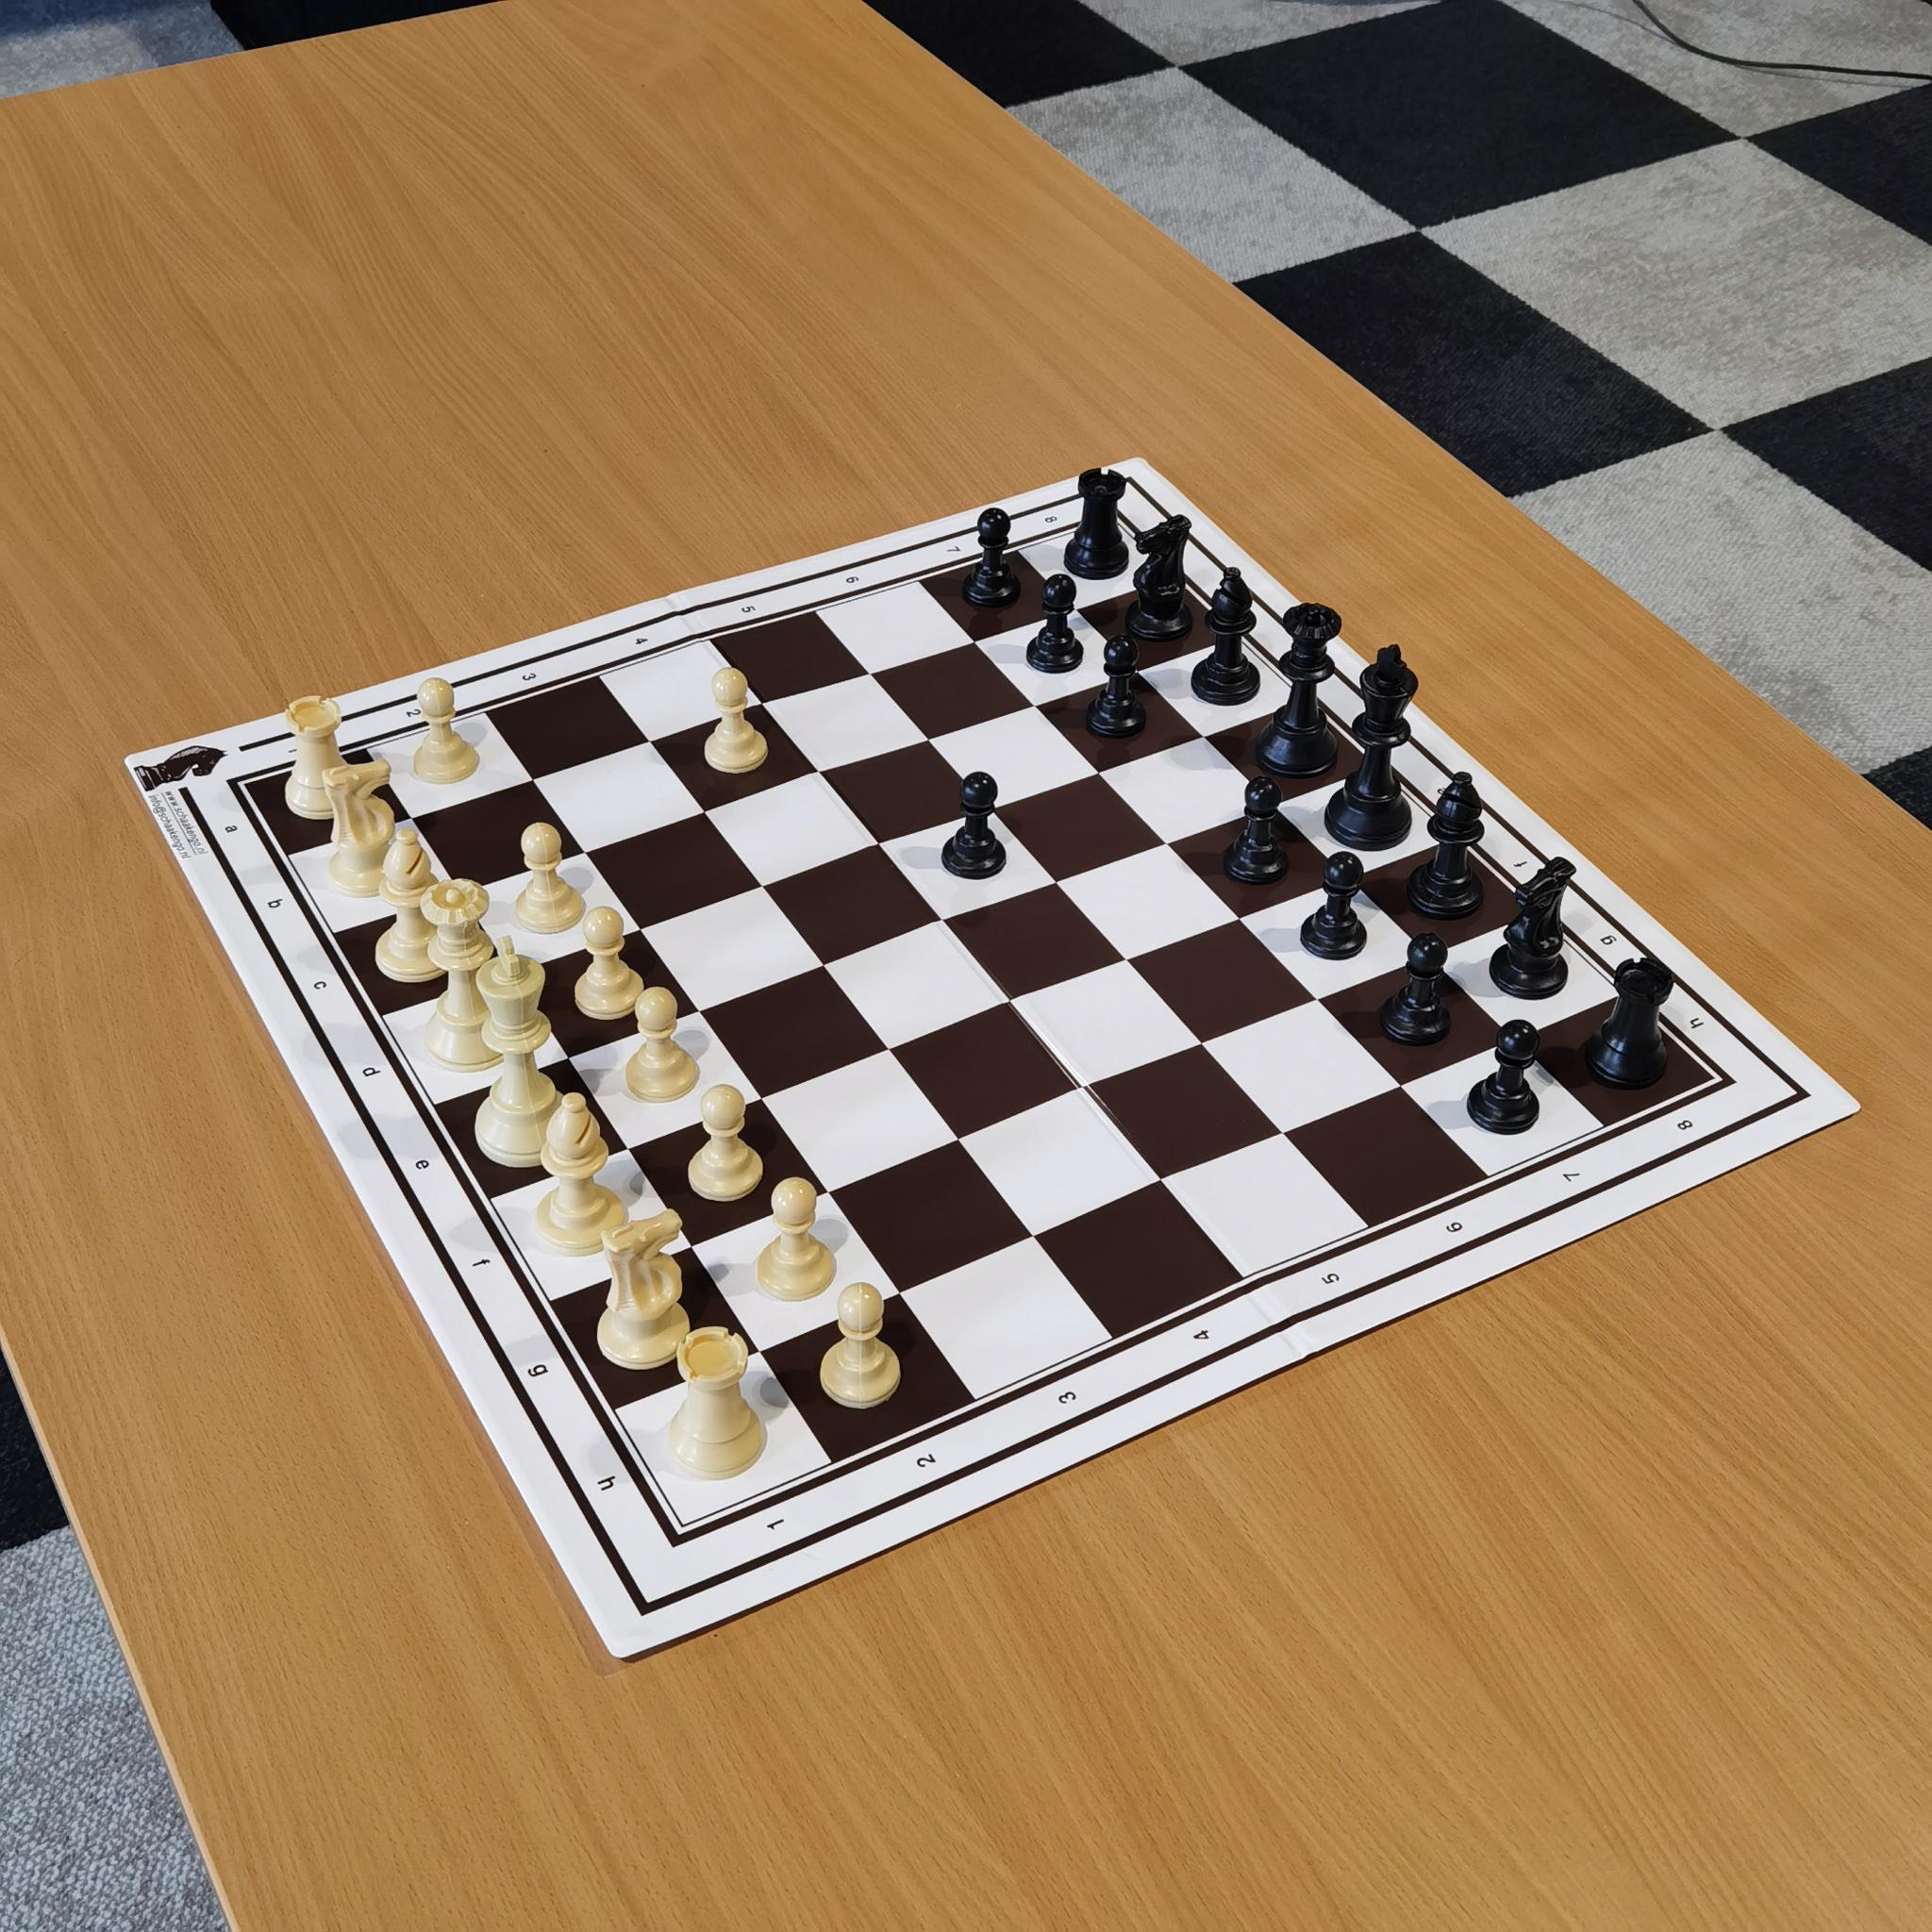corners: (649, 1507, 706, 1564), (1693, 1056, 1753, 1102), (212, 764, 267, 809), (1081, 495, 1125, 547)
eight: (1663, 1100, 1711, 1143), (1035, 499, 1069, 533)
one: (750, 1495, 809, 1550), (274, 727, 320, 766)
